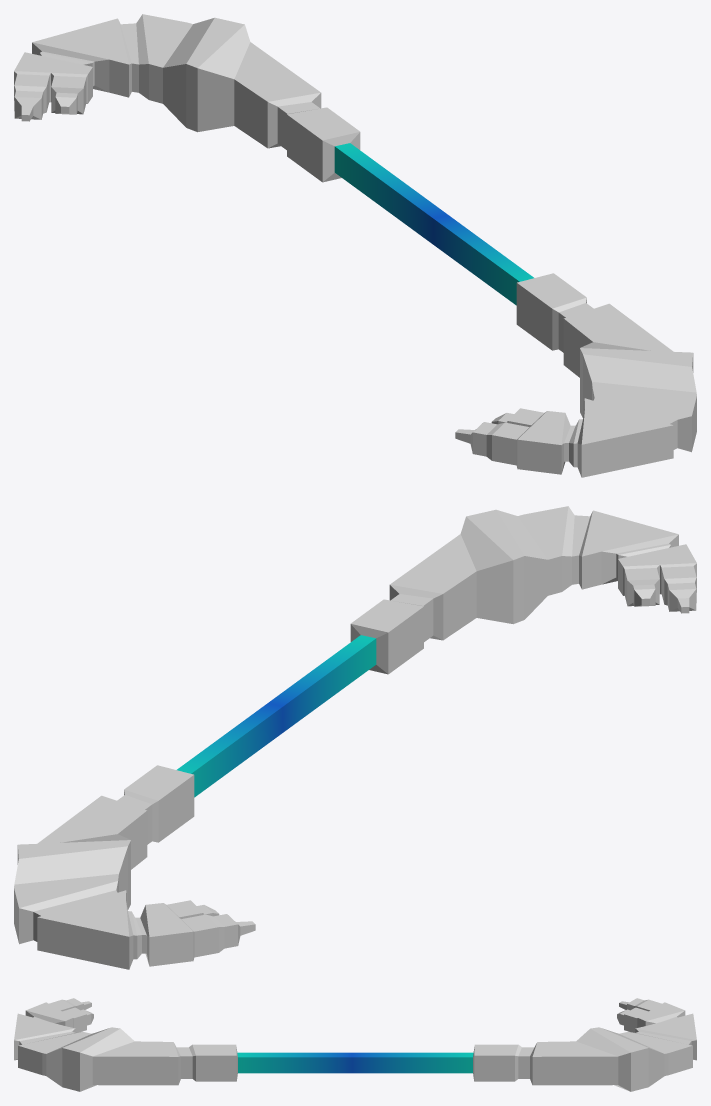
File: Gate_exit.fbx
3 views of the same model, one above another, from view 1: azimuth 30°, elevation 25°; view 2: azimuth 150°, elevation 25°; view 3: azimuth 270°, elevation 25° (orthographic). The views are drawn at different scales.
Visible parts, largest first — view 1: Cube; view 2: Cube; view 3: Cube.
Boxes of the visible parts, left/top/right/bottom form: Cube: left=14, top=14, right=696, bottom=477; Cube: left=14, top=506, right=696, bottom=969; Cube: left=14, top=998, right=696, bottom=1091.
Size of the model in its own units: 3.09 by 12.92 by 0.8208.
